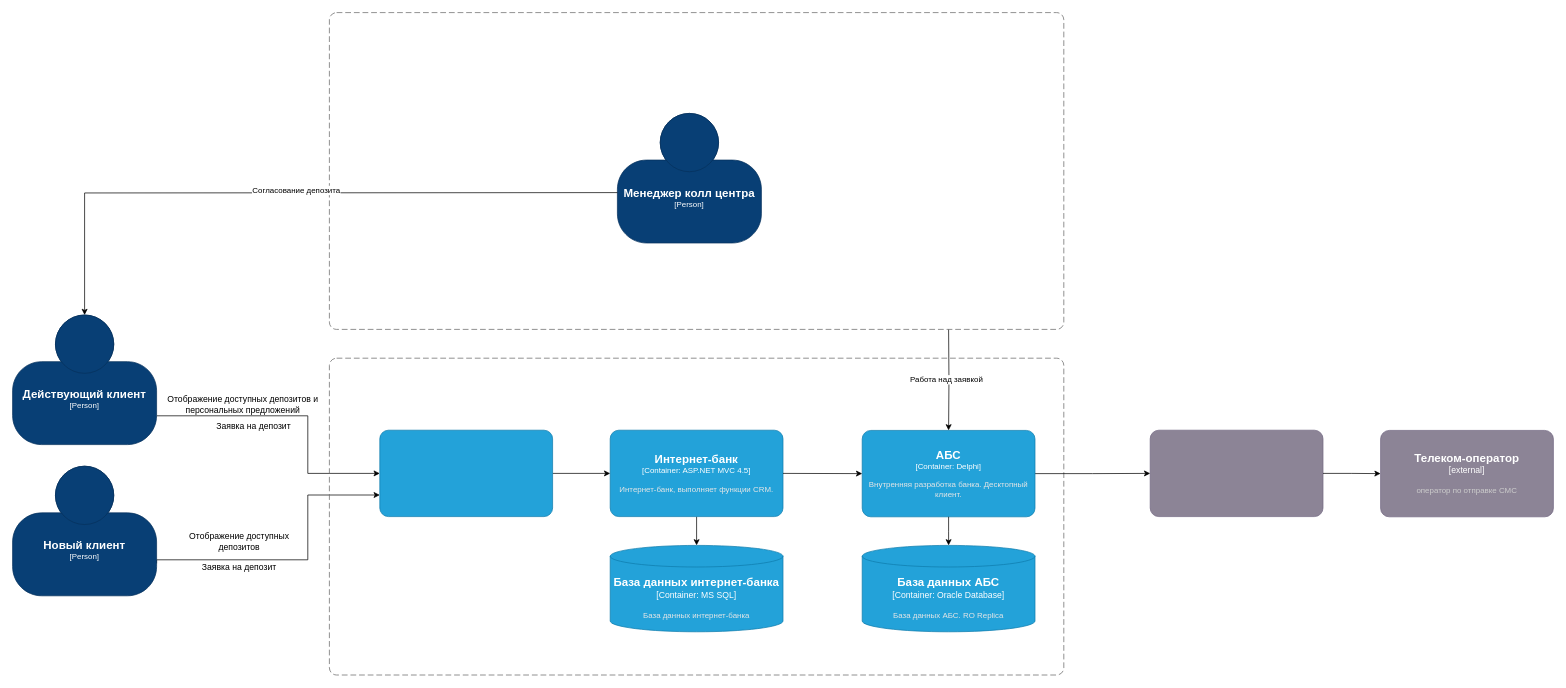
This 1566x688 diagram has some shape labels left out. Each missing label, with the box of its shape:
CRM [Колл центр]: (329, 12, 1064, 329)
Software System [Банк Стандарт]: (329, 357, 1064, 675)
Сайт [Container: PHP, React.js] Разработка банка: (379, 429, 553, 517)
СМС-шлюз [Software System] СМС-шлюз телеком-оператора: (1149, 429, 1323, 517)
